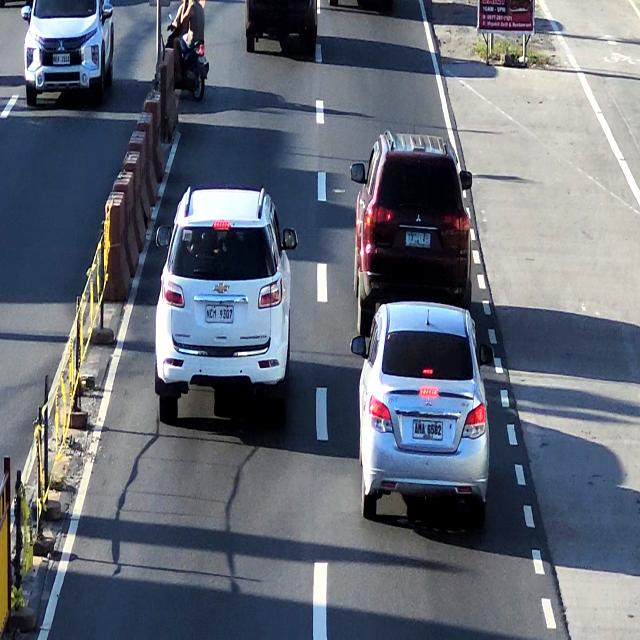Car: (158, 193, 292, 428), (361, 306, 492, 524), (353, 133, 475, 295), (242, 0, 320, 59)
License-Plate: (411, 421, 445, 442), (206, 302, 234, 324), (405, 230, 432, 248)
